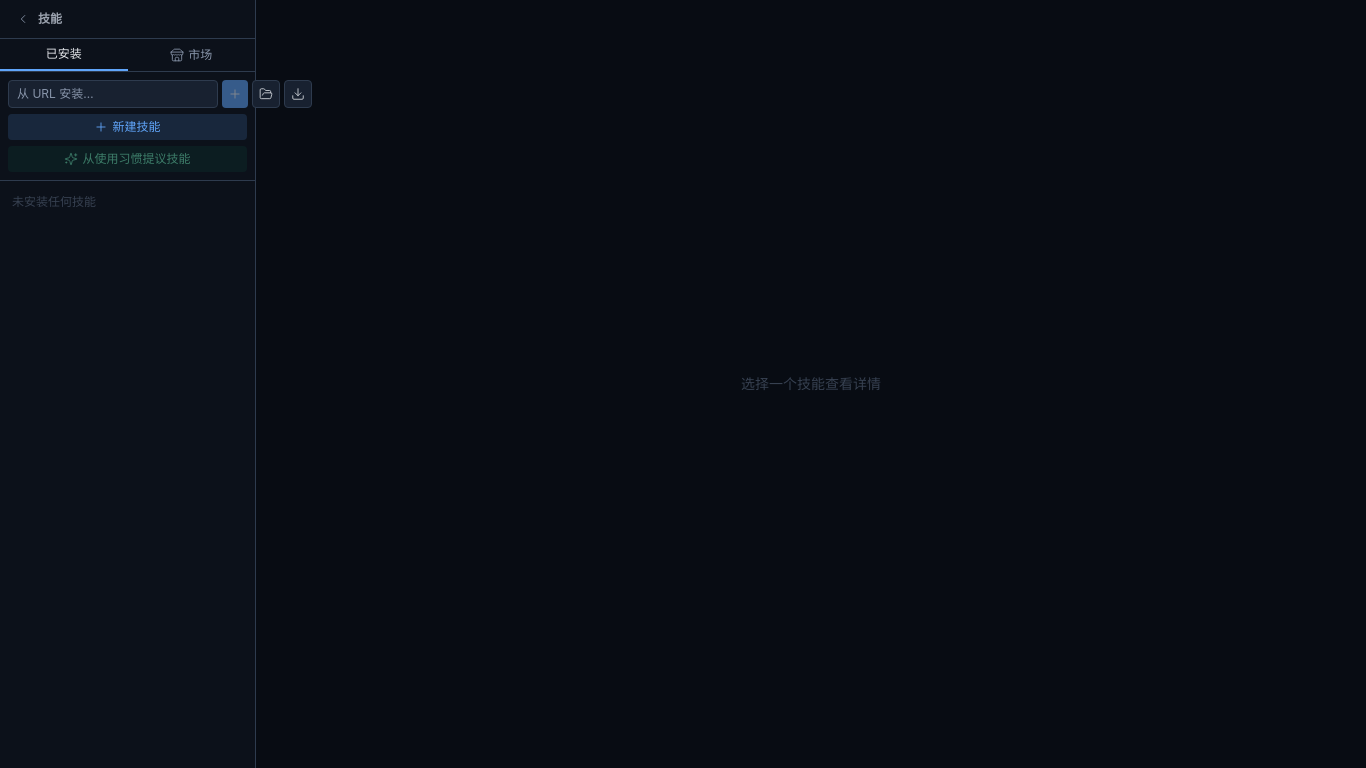
Test: Skill lifecycle continuity › keeps the enable dialog visible while saving and after a failed enable
The image size is (1366, 768).
Type "https://example.com/skill.json" into the field with placeholder "从 URL 安装…".
click(113, 94); type("https://example.com/skill.json")  # box [8, 80, 218, 108]
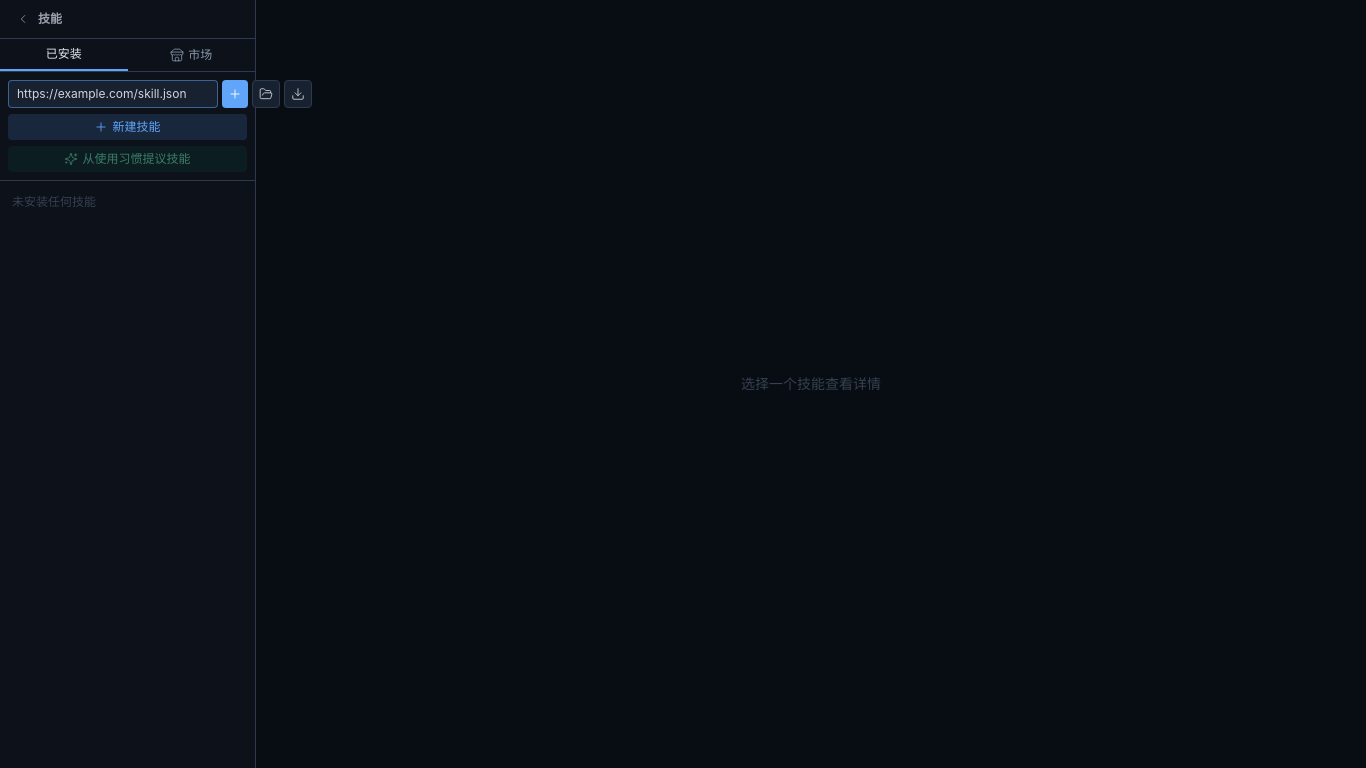
Click the button titled "从 URL 安装技能".
click(235, 94)  # box [222, 80, 248, 108]
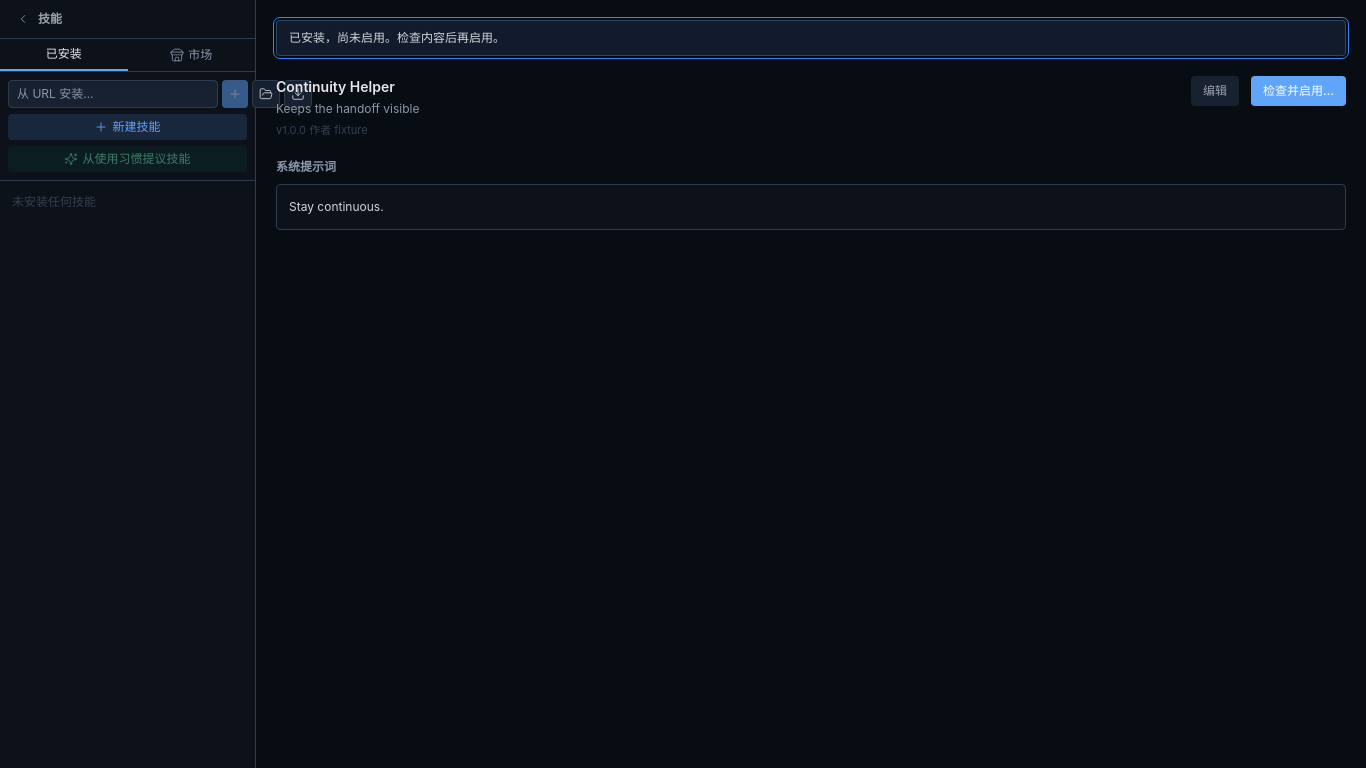
Click the button "检查并启用…".
click(1299, 91)  # box [1251, 76, 1346, 106]
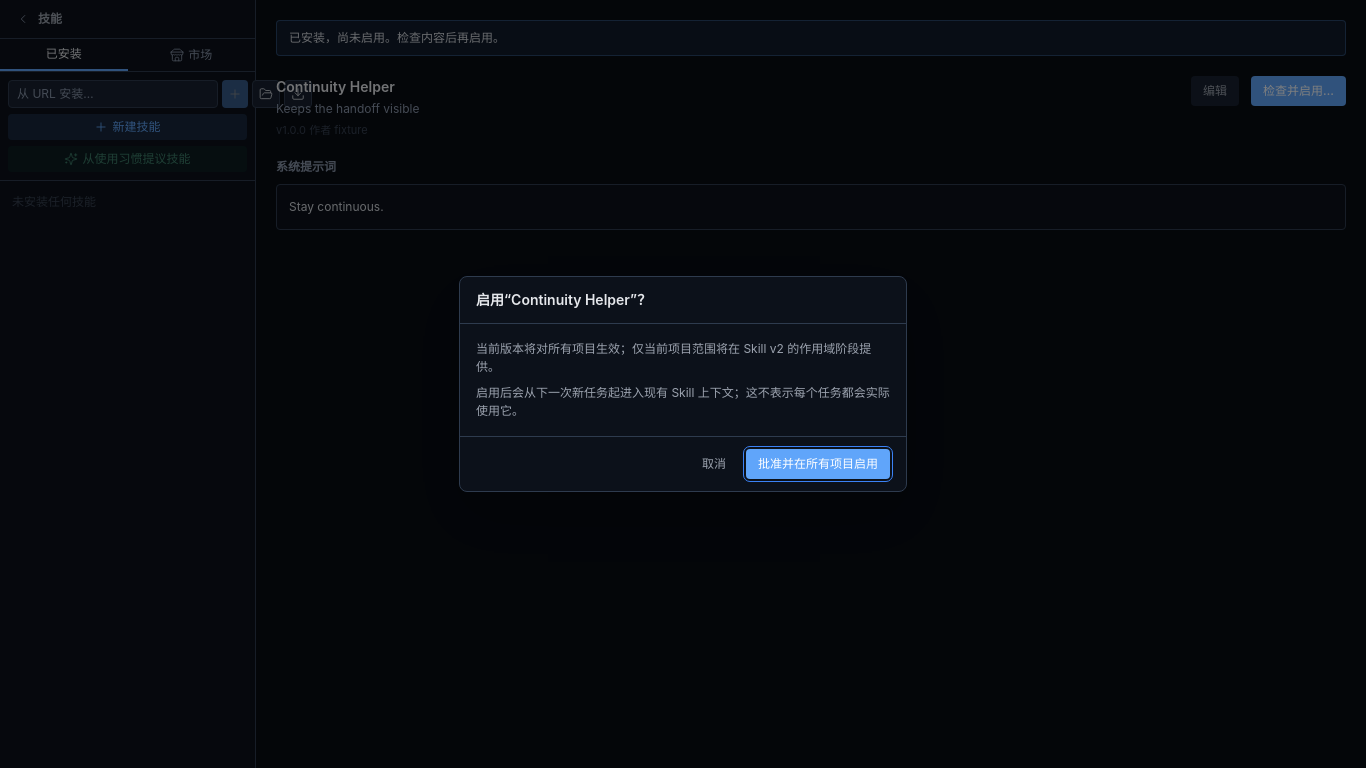
Click the button "批准并在所有项目启用".
click(818, 464)  # box [746, 449, 890, 479]
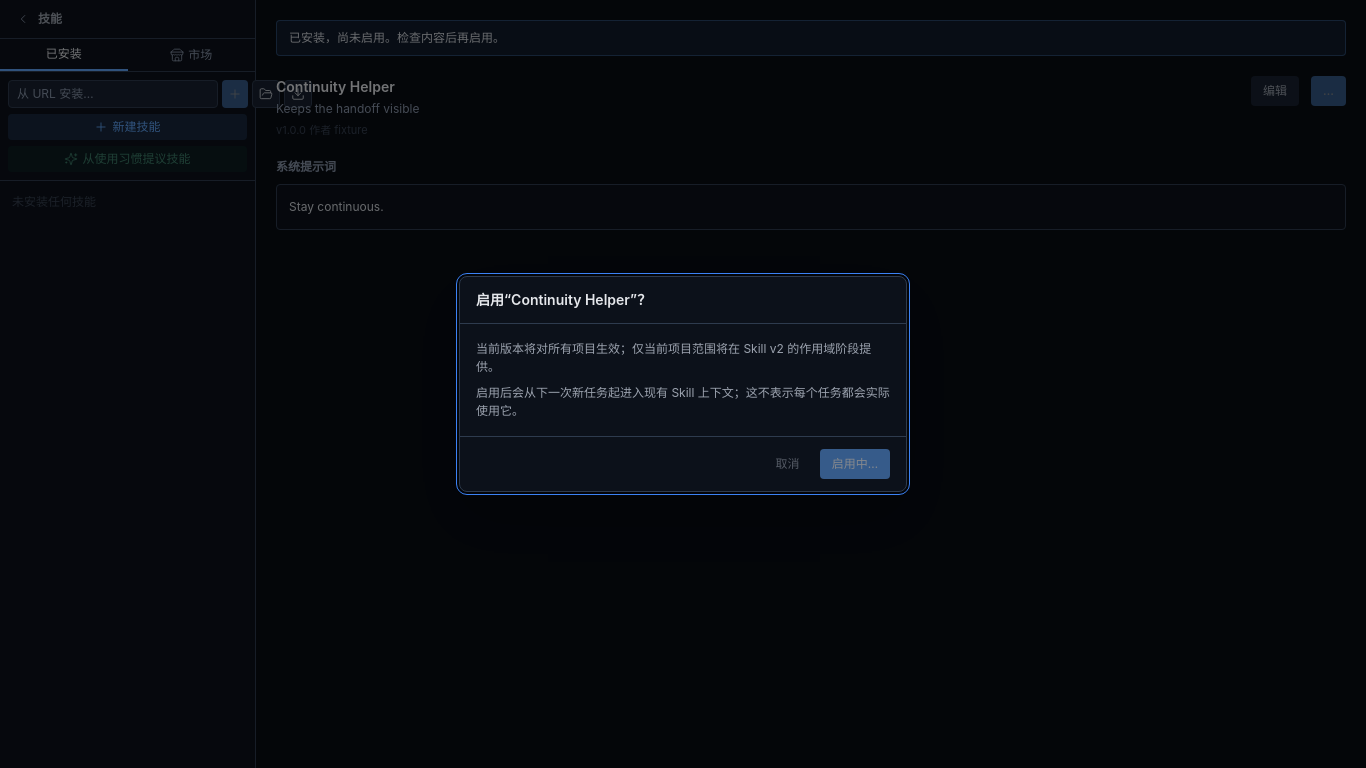
Press Tab
Press Escape
Check: the dialog is shown, box [459, 276, 907, 492]
Click the element that starts with "启用“".
click(82, 384)  # box [0, 0, 1365, 767]
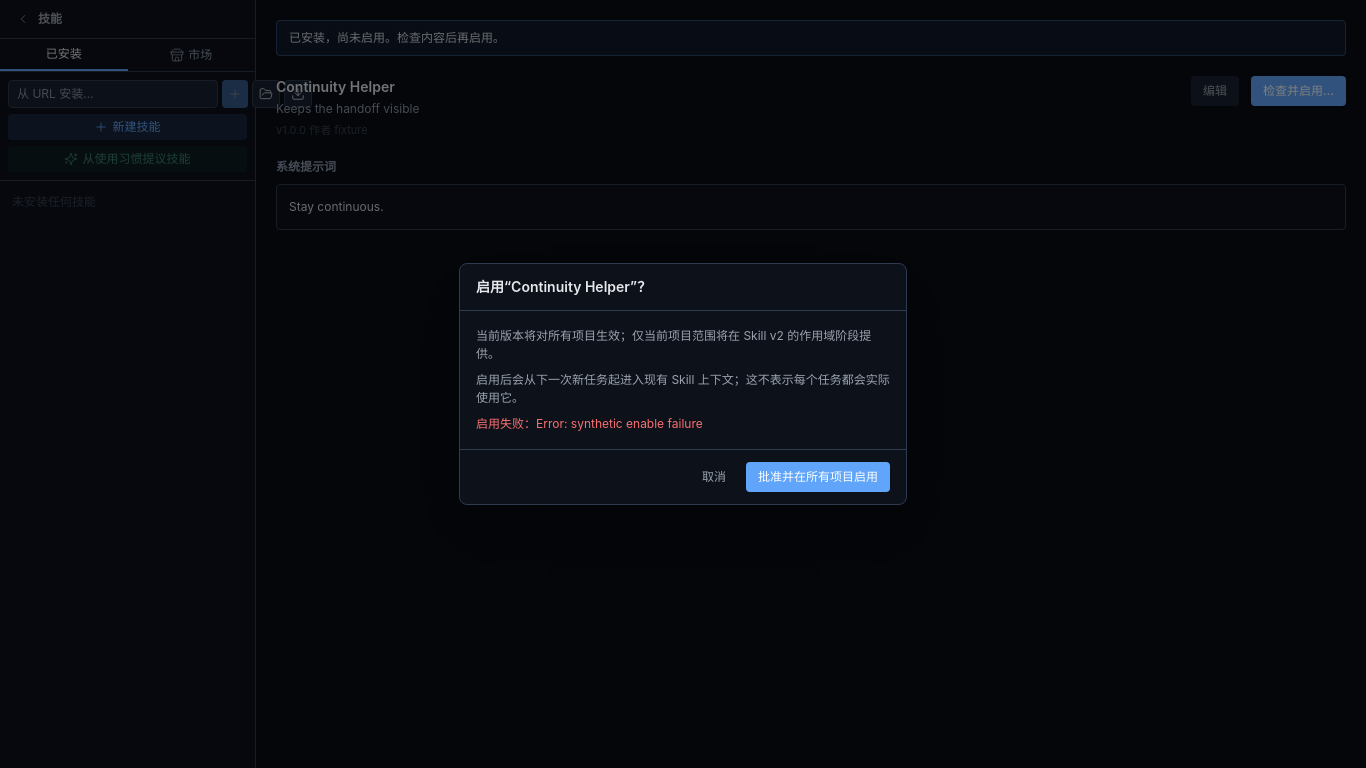
Check: the dialog is shown, box [459, 263, 907, 505]
Check: the message shows "synthetic enable failure", box [536, 416, 703, 431]
